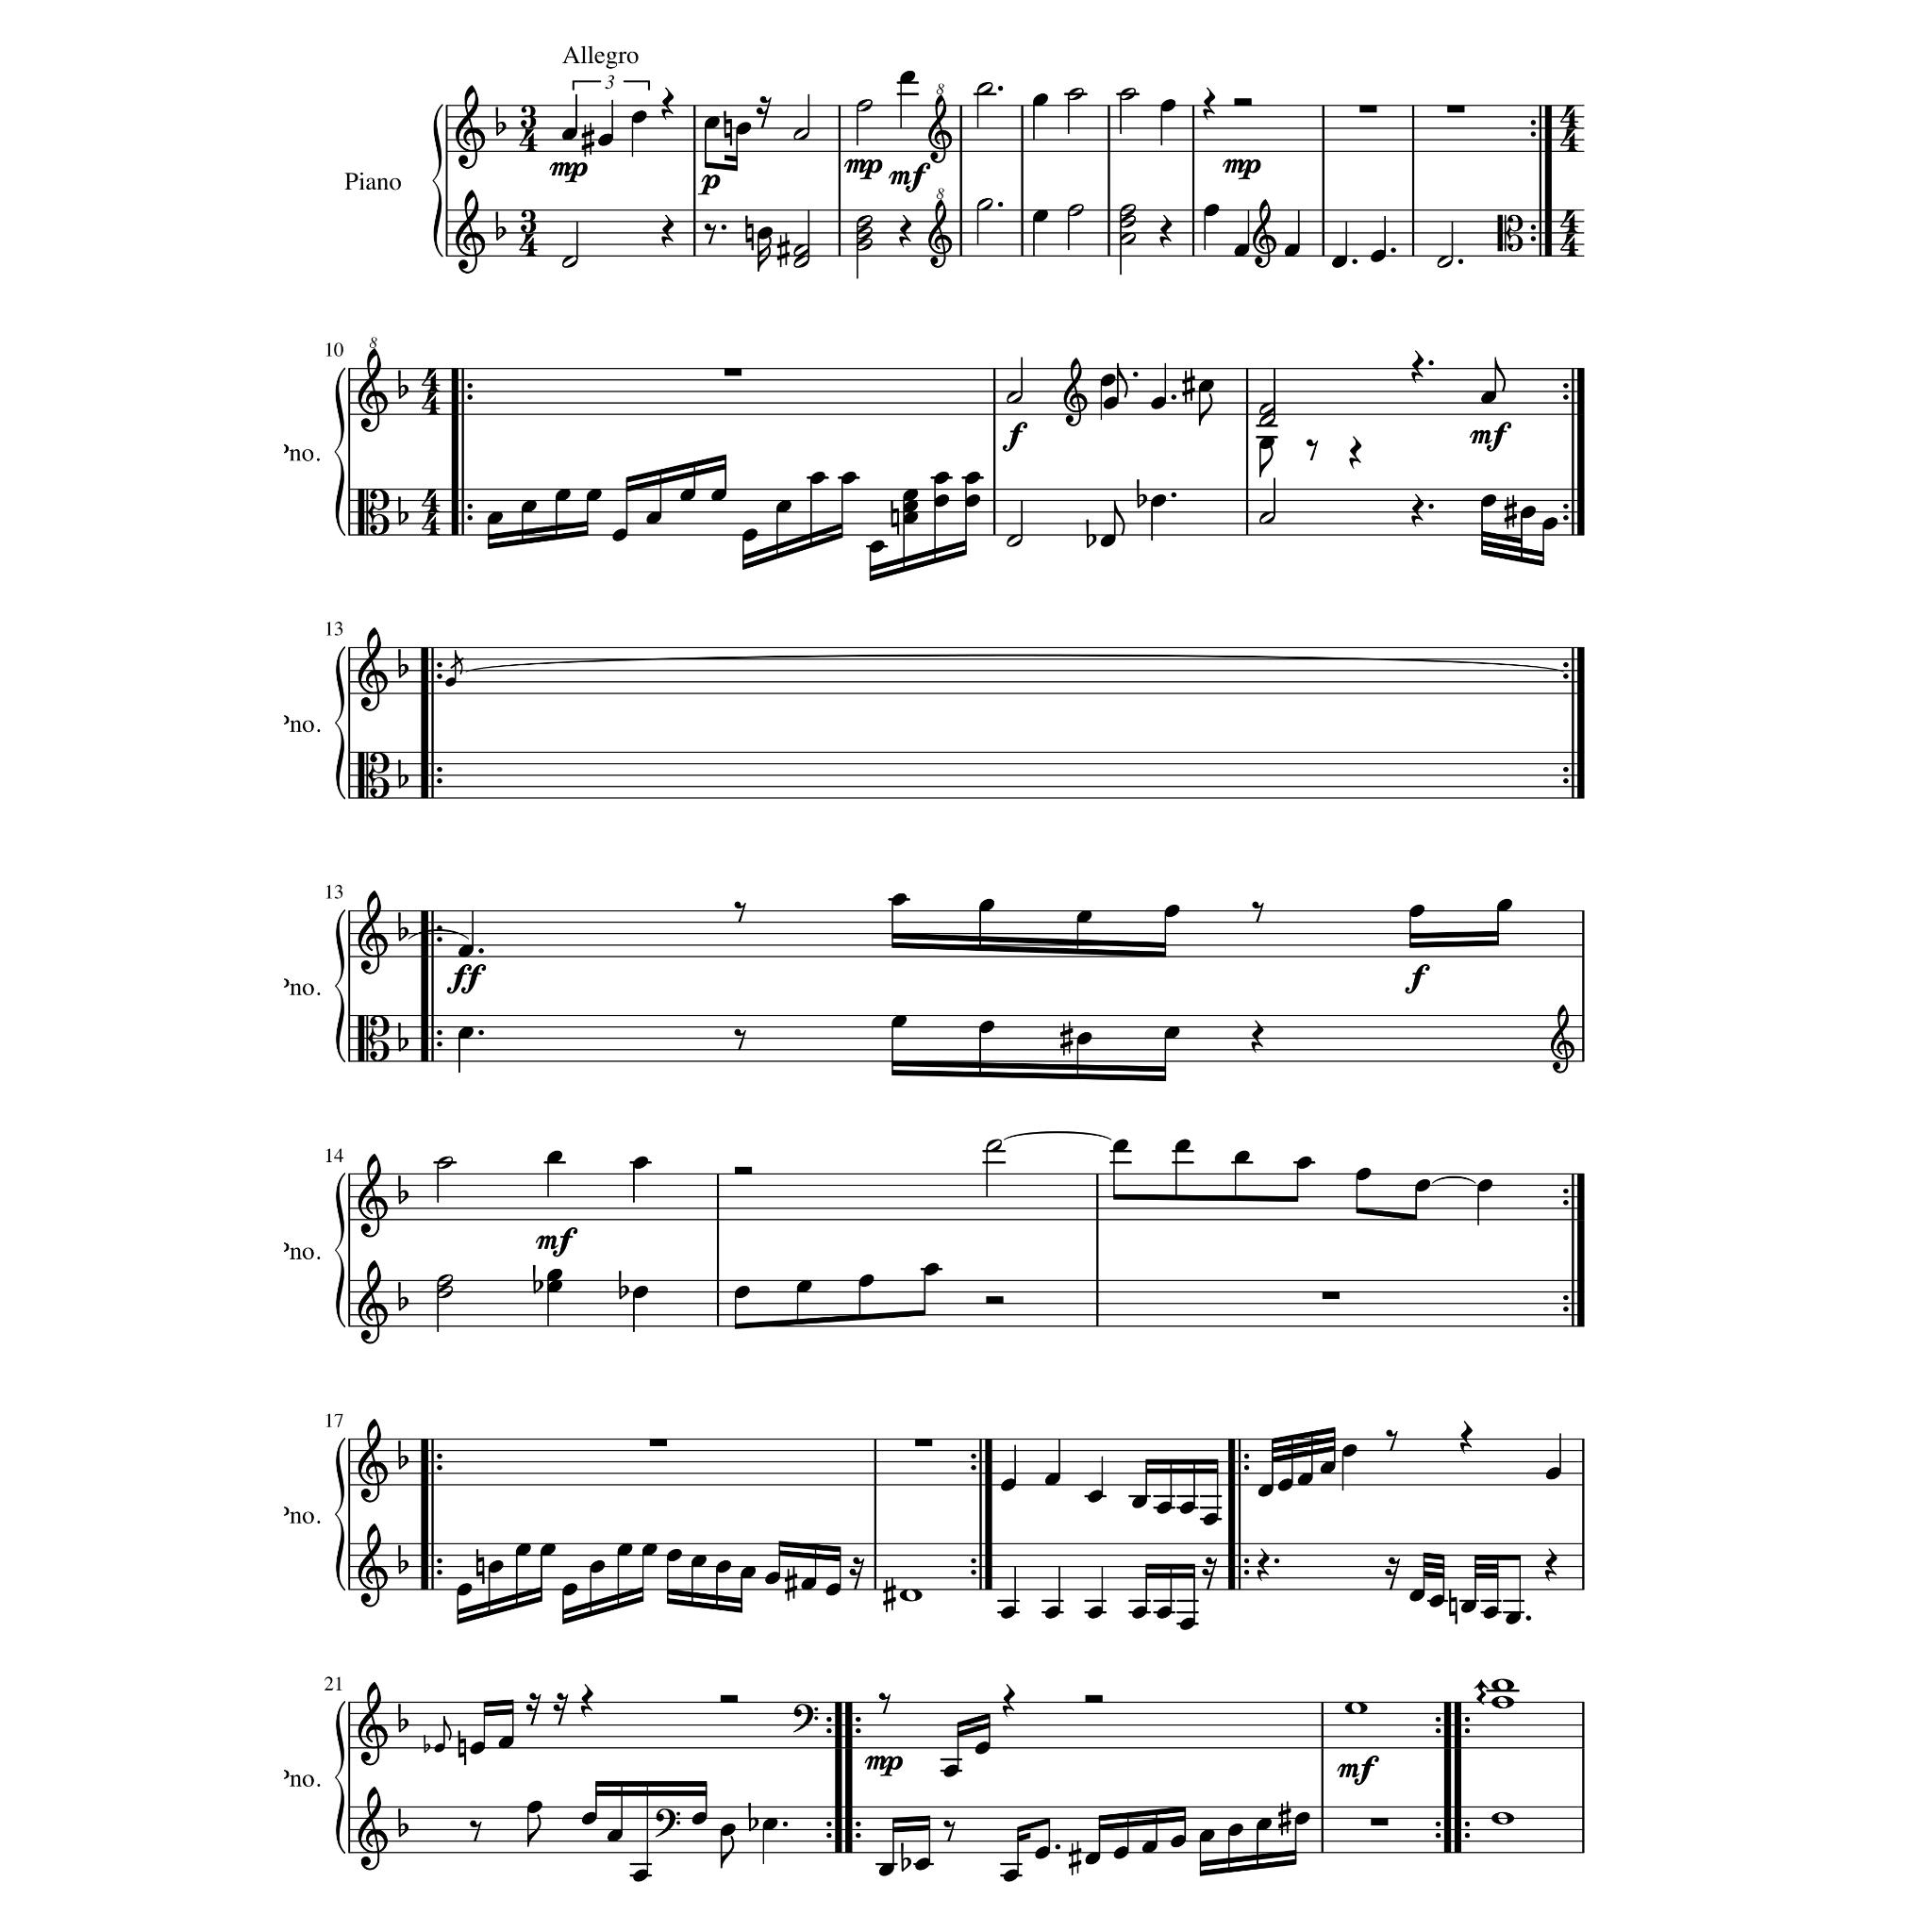brace: (333, 368, 345, 538), (333, 1173, 345, 1329), (333, 909, 345, 1063), (333, 1437, 345, 1591), (333, 1702, 345, 1856), (333, 648, 345, 800), (432, 104, 442, 258)
flag16thDown: (759, 237, 771, 272)
flag8thDown: (1198, 393, 1212, 426), (1260, 444, 1274, 478), (720, 1835, 734, 1868), (527, 1815, 541, 1847)
flag8thUp: (1116, 363, 1129, 400), (449, 644, 464, 676), (1115, 501, 1125, 536), (1495, 357, 1506, 393), (442, 1716, 451, 1741)
gClef: (455, 189, 485, 274), (455, 85, 485, 170), (357, 349, 387, 433), (357, 628, 387, 713), (357, 890, 387, 975), (357, 1260, 387, 1345), (357, 1154, 387, 1238), (357, 1523, 387, 1608), (357, 1419, 387, 1504), (357, 1787, 387, 1872), (357, 1683, 387, 1767)
noteheadBlack: (1369, 249, 1387, 264), (630, 110, 648, 124), (1099, 534, 1116, 548), (1099, 373, 1116, 387), (616, 1543, 633, 1557), (1203, 203, 1219, 218), (1284, 244, 1300, 258), (1233, 244, 1249, 258), (1332, 255, 1348, 269), (704, 117, 720, 131), (1033, 209, 1049, 223), (1104, 396, 1120, 410), (1150, 494, 1166, 508), (1150, 396, 1166, 410), (1543, 517, 1559, 531), (1481, 494, 1497, 508), (586, 488, 602, 502), (711, 488, 727, 502), (679, 488, 695, 502), (554, 488, 570, 502), (964, 494, 980, 508), (902, 488, 918, 502), (1164, 1026, 1180, 1040), (1164, 904, 1180, 918), (1076, 1031, 1092, 1046), (1408, 904, 1424, 918), (1497, 899, 1513, 913), (456, 1026, 472, 1040), (978, 899, 994, 913), (1175, 1139, 1191, 1154), (1113, 1139, 1129, 1154), (1355, 1168, 1371, 1182), (547, 1269, 563, 1283), (858, 1274, 874, 1288), (1203, 1513, 1219, 1527), (1180, 1617, 1196, 1631), (1546, 1467, 1562, 1481), (1506, 1612, 1522, 1626), (1341, 1444, 1357, 1458), (1297, 1472, 1313, 1486), (1430, 1594, 1445, 1608), (640, 1543, 656, 1557), (740, 1566, 755, 1580), (540, 1543, 556, 1557), (515, 1543, 531, 1557), (764, 1571, 780, 1585), (1113, 1845, 1129, 1859), (1035, 1845, 1051, 1859), (1293, 1812, 1309, 1826), (1256, 1817, 1272, 1831), (582, 1812, 598, 1826), (763, 1817, 778, 1831), (692, 1812, 708, 1826), (1000, 1606, 1017, 1619), (1000, 1479, 1017, 1491), (1200, 379, 1214, 393), (934, 494, 948, 508), (1046, 1472, 1060, 1486), (1143, 1840, 1157, 1854), (1171, 1835, 1185, 1849), (975, 1741, 989, 1755), (499, 1736, 513, 1750), (471, 1741, 485, 1755), (879, 1863, 893, 1877), (1161, 99, 1177, 111), (736, 122, 752, 134), (561, 129, 577, 142), (757, 226, 773, 239), (598, 134, 614, 147), (1033, 94, 1049, 106), (899, 71, 915, 83), (1520, 506, 1536, 518), (1481, 391, 1497, 403), (646, 511, 662, 524), (612, 529, 628, 541), (487, 511, 502, 524), (964, 472, 980, 485), (840, 472, 856, 485), (902, 511, 918, 524), (810, 472, 826, 485), (775, 501, 791, 513), (902, 501, 918, 513), (869, 541, 885, 554), (1076, 911, 1092, 924), (456, 945, 472, 957), (892, 1016, 908, 1028), (978, 1021, 994, 1033), (892, 893, 908, 906), (924, 1263, 939, 1276), (1477, 1180, 1493, 1192), (1235, 1152, 1251, 1164), (1295, 1157, 1311, 1169), (1415, 1180, 1431, 1192), (547, 1152, 563, 1164), (547, 1281, 563, 1293), (796, 1281, 812, 1293), (734, 1286, 750, 1299), (633, 1157, 649, 1169), (633, 1286, 649, 1299), (1258, 1484, 1274, 1497), (1277, 1479, 1293, 1491), (1088, 1606, 1104, 1619), (1132, 1606, 1148, 1619), (1132, 1497, 1148, 1509), (1088, 1490, 1104, 1502), (1180, 1502, 1196, 1514), (1483, 1606, 1499, 1619), (1320, 1461, 1336, 1474), (1408, 1589, 1424, 1601), (589, 1560, 605, 1573), (563, 1583, 579, 1596), (692, 1555, 708, 1568), (667, 1550, 683, 1562), (456, 1583, 472, 1596), (715, 1560, 731, 1573), (487, 1560, 502, 1573), (800, 1578, 816, 1591), (943, 1766, 959, 1778), (1228, 1824, 1244, 1836), (1198, 1829, 1214, 1842), (1003, 1870, 1019, 1882), (1085, 1852, 1100, 1865), (607, 1829, 623, 1842), (915, 1858, 931, 1870), (720, 1824, 736, 1836), (1260, 437, 1274, 449), (743, 529, 757, 541), (522, 501, 536, 513), (934, 472, 948, 485), (1157, 1606, 1171, 1619), (1157, 1502, 1171, 1514), (1461, 1601, 1476, 1614), (1046, 1606, 1060, 1619), (826, 1583, 840, 1596), (527, 1801, 541, 1813), (633, 1870, 648, 1882), (433, 1743, 446, 1753), (446, 678, 456, 686)
noteheadHalf: (1067, 203, 1085, 218), (1118, 203, 1136, 218), (1437, 255, 1454, 269), (561, 255, 579, 269), (1258, 414, 1276, 428), (1005, 534, 1023, 548), (985, 1139, 1003, 1154), (435, 1274, 453, 1288), (977, 81, 993, 96), (793, 255, 809, 269), (793, 244, 809, 258), (1067, 88, 1085, 101), (1118, 216, 1136, 228), (1118, 234, 1136, 246), (1118, 88, 1136, 101), (1258, 403, 1276, 416), (1258, 511, 1276, 524), (1005, 391, 1023, 403), (435, 1157, 453, 1169), (435, 1286, 453, 1299), (977, 198, 993, 211), (856, 226, 872, 239), (793, 129, 809, 142), (856, 216, 872, 228), (856, 239, 872, 251), (856, 99, 872, 111)
noteheadWhole: (1491, 1812, 1514, 1826), (1491, 1679, 1514, 1693), (899, 1589, 924, 1601), (1345, 1702, 1368, 1714), (1491, 1697, 1514, 1709)
rest16th: (1201, 1557, 1217, 1592), (849, 1557, 865, 1592), (552, 1693, 568, 1727), (525, 1693, 541, 1727), (757, 96, 771, 131), (1385, 1557, 1399, 1592)
rest8th: (878, 1693, 892, 1714), (704, 223, 717, 246), (1251, 901, 1263, 924), (734, 901, 747, 924), (1306, 439, 1318, 460), (734, 1030, 747, 1051), (943, 1821, 955, 1842), (469, 1821, 481, 1842), (1387, 1430, 1398, 1451)
restHalf: (1233, 99, 1253, 108), (1085, 1695, 1104, 1704), (985, 1297, 1003, 1306), (734, 1166, 752, 1175), (720, 1695, 738, 1704)
restQuarter: (1348, 435, 1362, 471), (1159, 216, 1173, 249), (660, 216, 674, 249), (660, 87, 674, 120), (1256, 1548, 1270, 1582), (1001, 1684, 1016, 1718), (1251, 1019, 1263, 1054), (1203, 87, 1215, 120), (899, 216, 911, 249), (1412, 494, 1424, 527), (1412, 350, 1424, 384), (1545, 1548, 1557, 1582), (1460, 1421, 1472, 1454), (580, 1684, 593, 1718)
restWhole: (1369, 1819, 1389, 1828), (1359, 104, 1376, 113), (1447, 104, 1465, 113), (724, 368, 741, 377), (1322, 1292, 1339, 1300), (915, 1438, 932, 1447), (649, 1438, 667, 1447)
